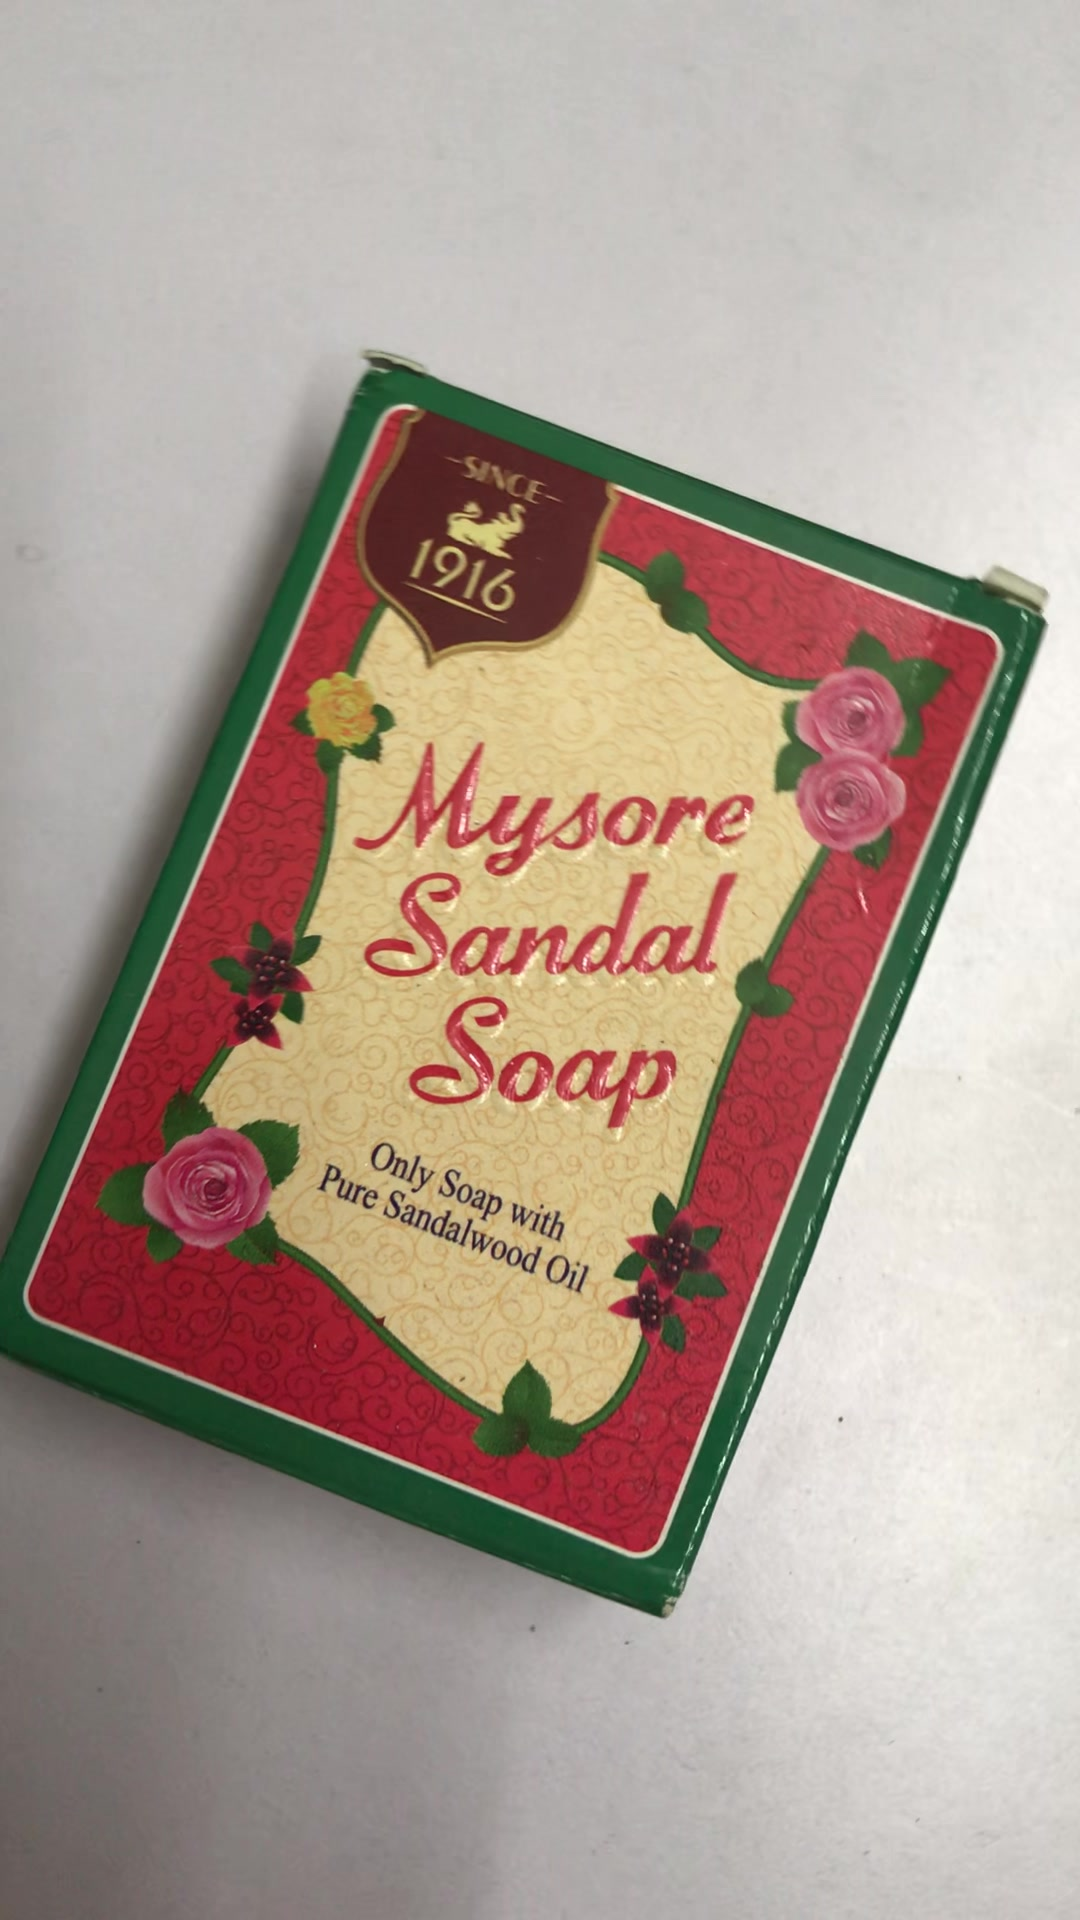mysore sandal soap: (3, 365, 1044, 1617)
